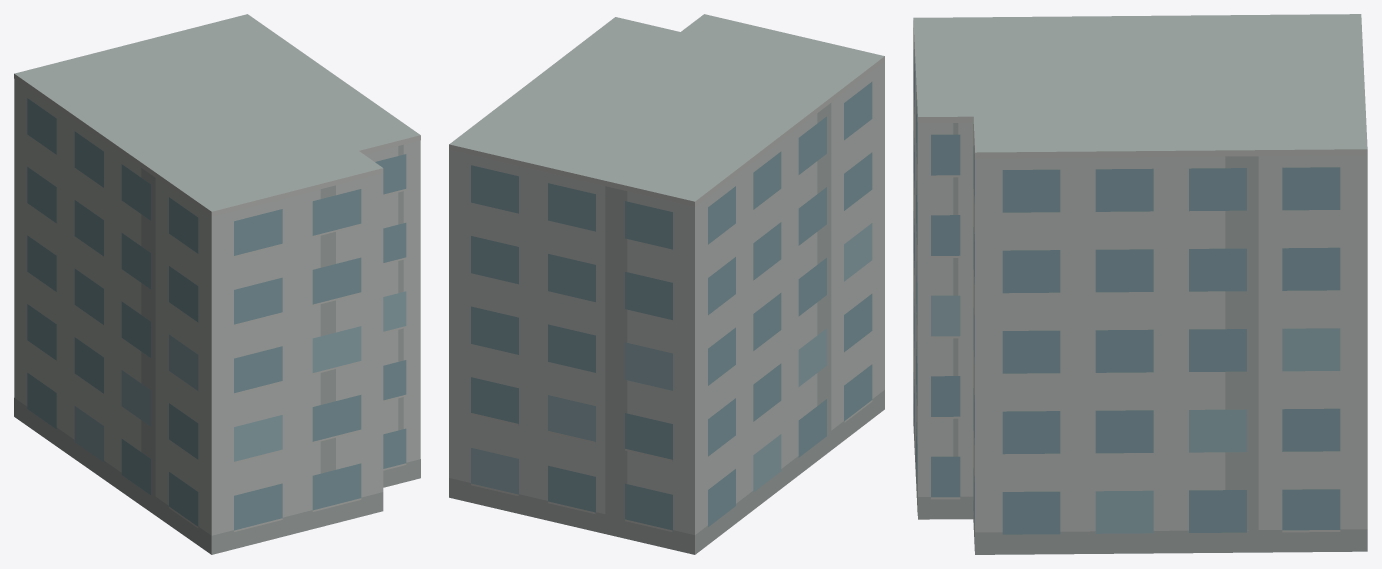
The model's file is survey-upis-32609850.glb.
3 views of the same model, side by side, from view 1: azimuth 30°, elevation 25°; view 2: azimuth 150°, elevation 25°; view 3: azimuth 270°, elevation 25° (orthographic). The views are drawn at different scales.
Visible parts, largest first — view 1: survey-upis-32609850.tmp; view 2: survey-upis-32609850.tmp; view 3: survey-upis-32609850.tmp.
Part boxes in pixels (x1,y1,x2,y2): survey-upis-32609850.tmp: [14, 14, 420, 554]; survey-upis-32609850.tmp: [449, 14, 884, 554]; survey-upis-32609850.tmp: [913, 14, 1367, 554].
Bounding box in the file's own units: 11.89 × 16.1 × 16.48.
